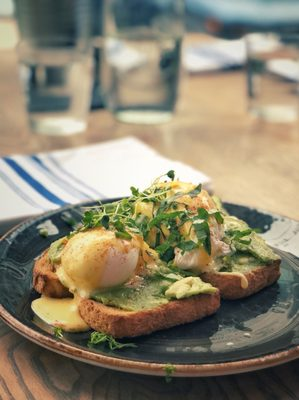curry: (0, 58, 298, 400)
